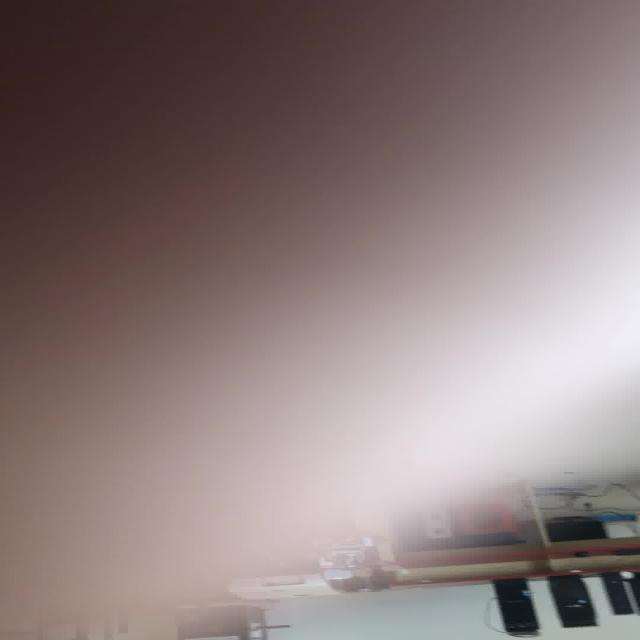sponge: (490, 577, 539, 636)
